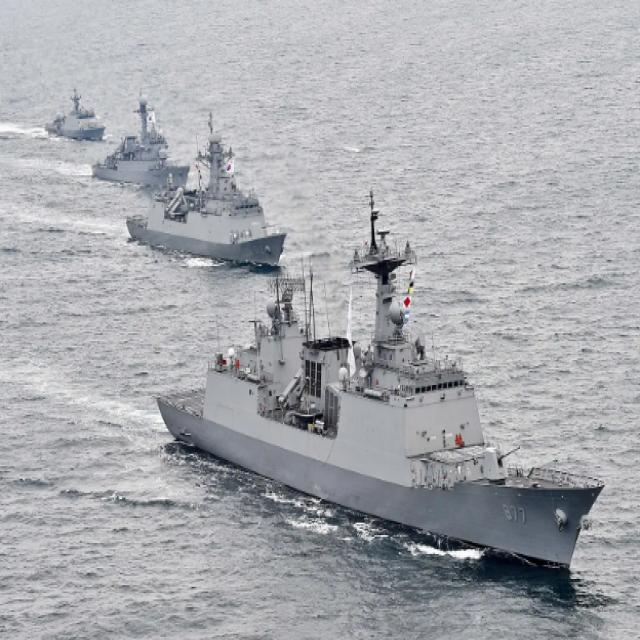navalvessels: (155, 194, 608, 578), (128, 114, 283, 276), (95, 91, 185, 185), (42, 86, 107, 147)
